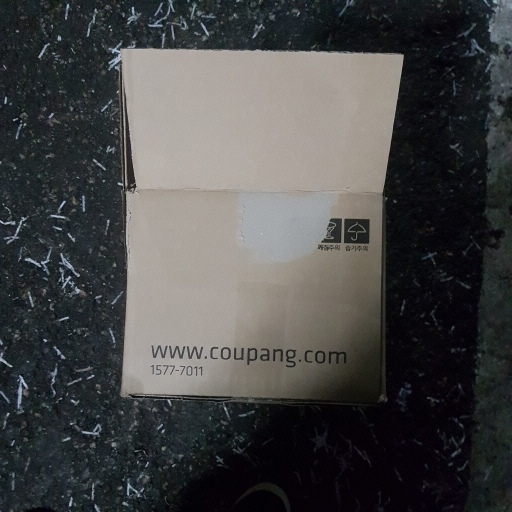Paper_0: (96, 42, 411, 418)
